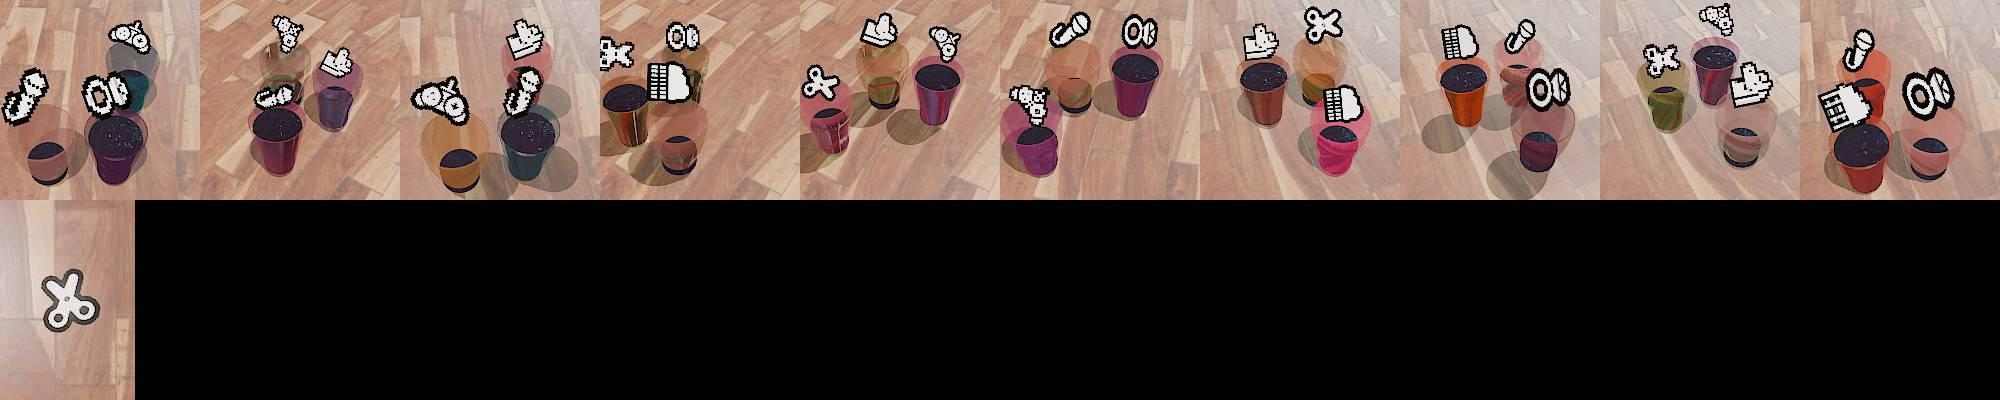icon: (39, 268, 101, 332), (1901, 68, 1956, 123), (1817, 82, 1875, 134), (409, 74, 467, 125), (1, 67, 49, 126), (80, 73, 132, 119), (1729, 60, 1775, 109), (647, 61, 699, 104), (1525, 66, 1573, 112), (502, 66, 544, 118), (1322, 83, 1364, 126), (1301, 5, 1343, 45), (1010, 84, 1049, 127), (507, 18, 545, 62), (1049, 10, 1091, 48), (108, 20, 153, 55), (860, 12, 901, 50), (801, 64, 842, 102), (1842, 28, 1875, 73), (1243, 22, 1281, 61), (1442, 23, 1480, 61), (1643, 42, 1681, 79), (1121, 13, 1158, 50), (271, 14, 305, 54), (253, 81, 299, 110), (599, 36, 636, 72), (1698, 3, 1735, 38), (1504, 18, 1537, 55), (928, 25, 960, 63), (665, 22, 702, 53), (319, 46, 354, 78)
